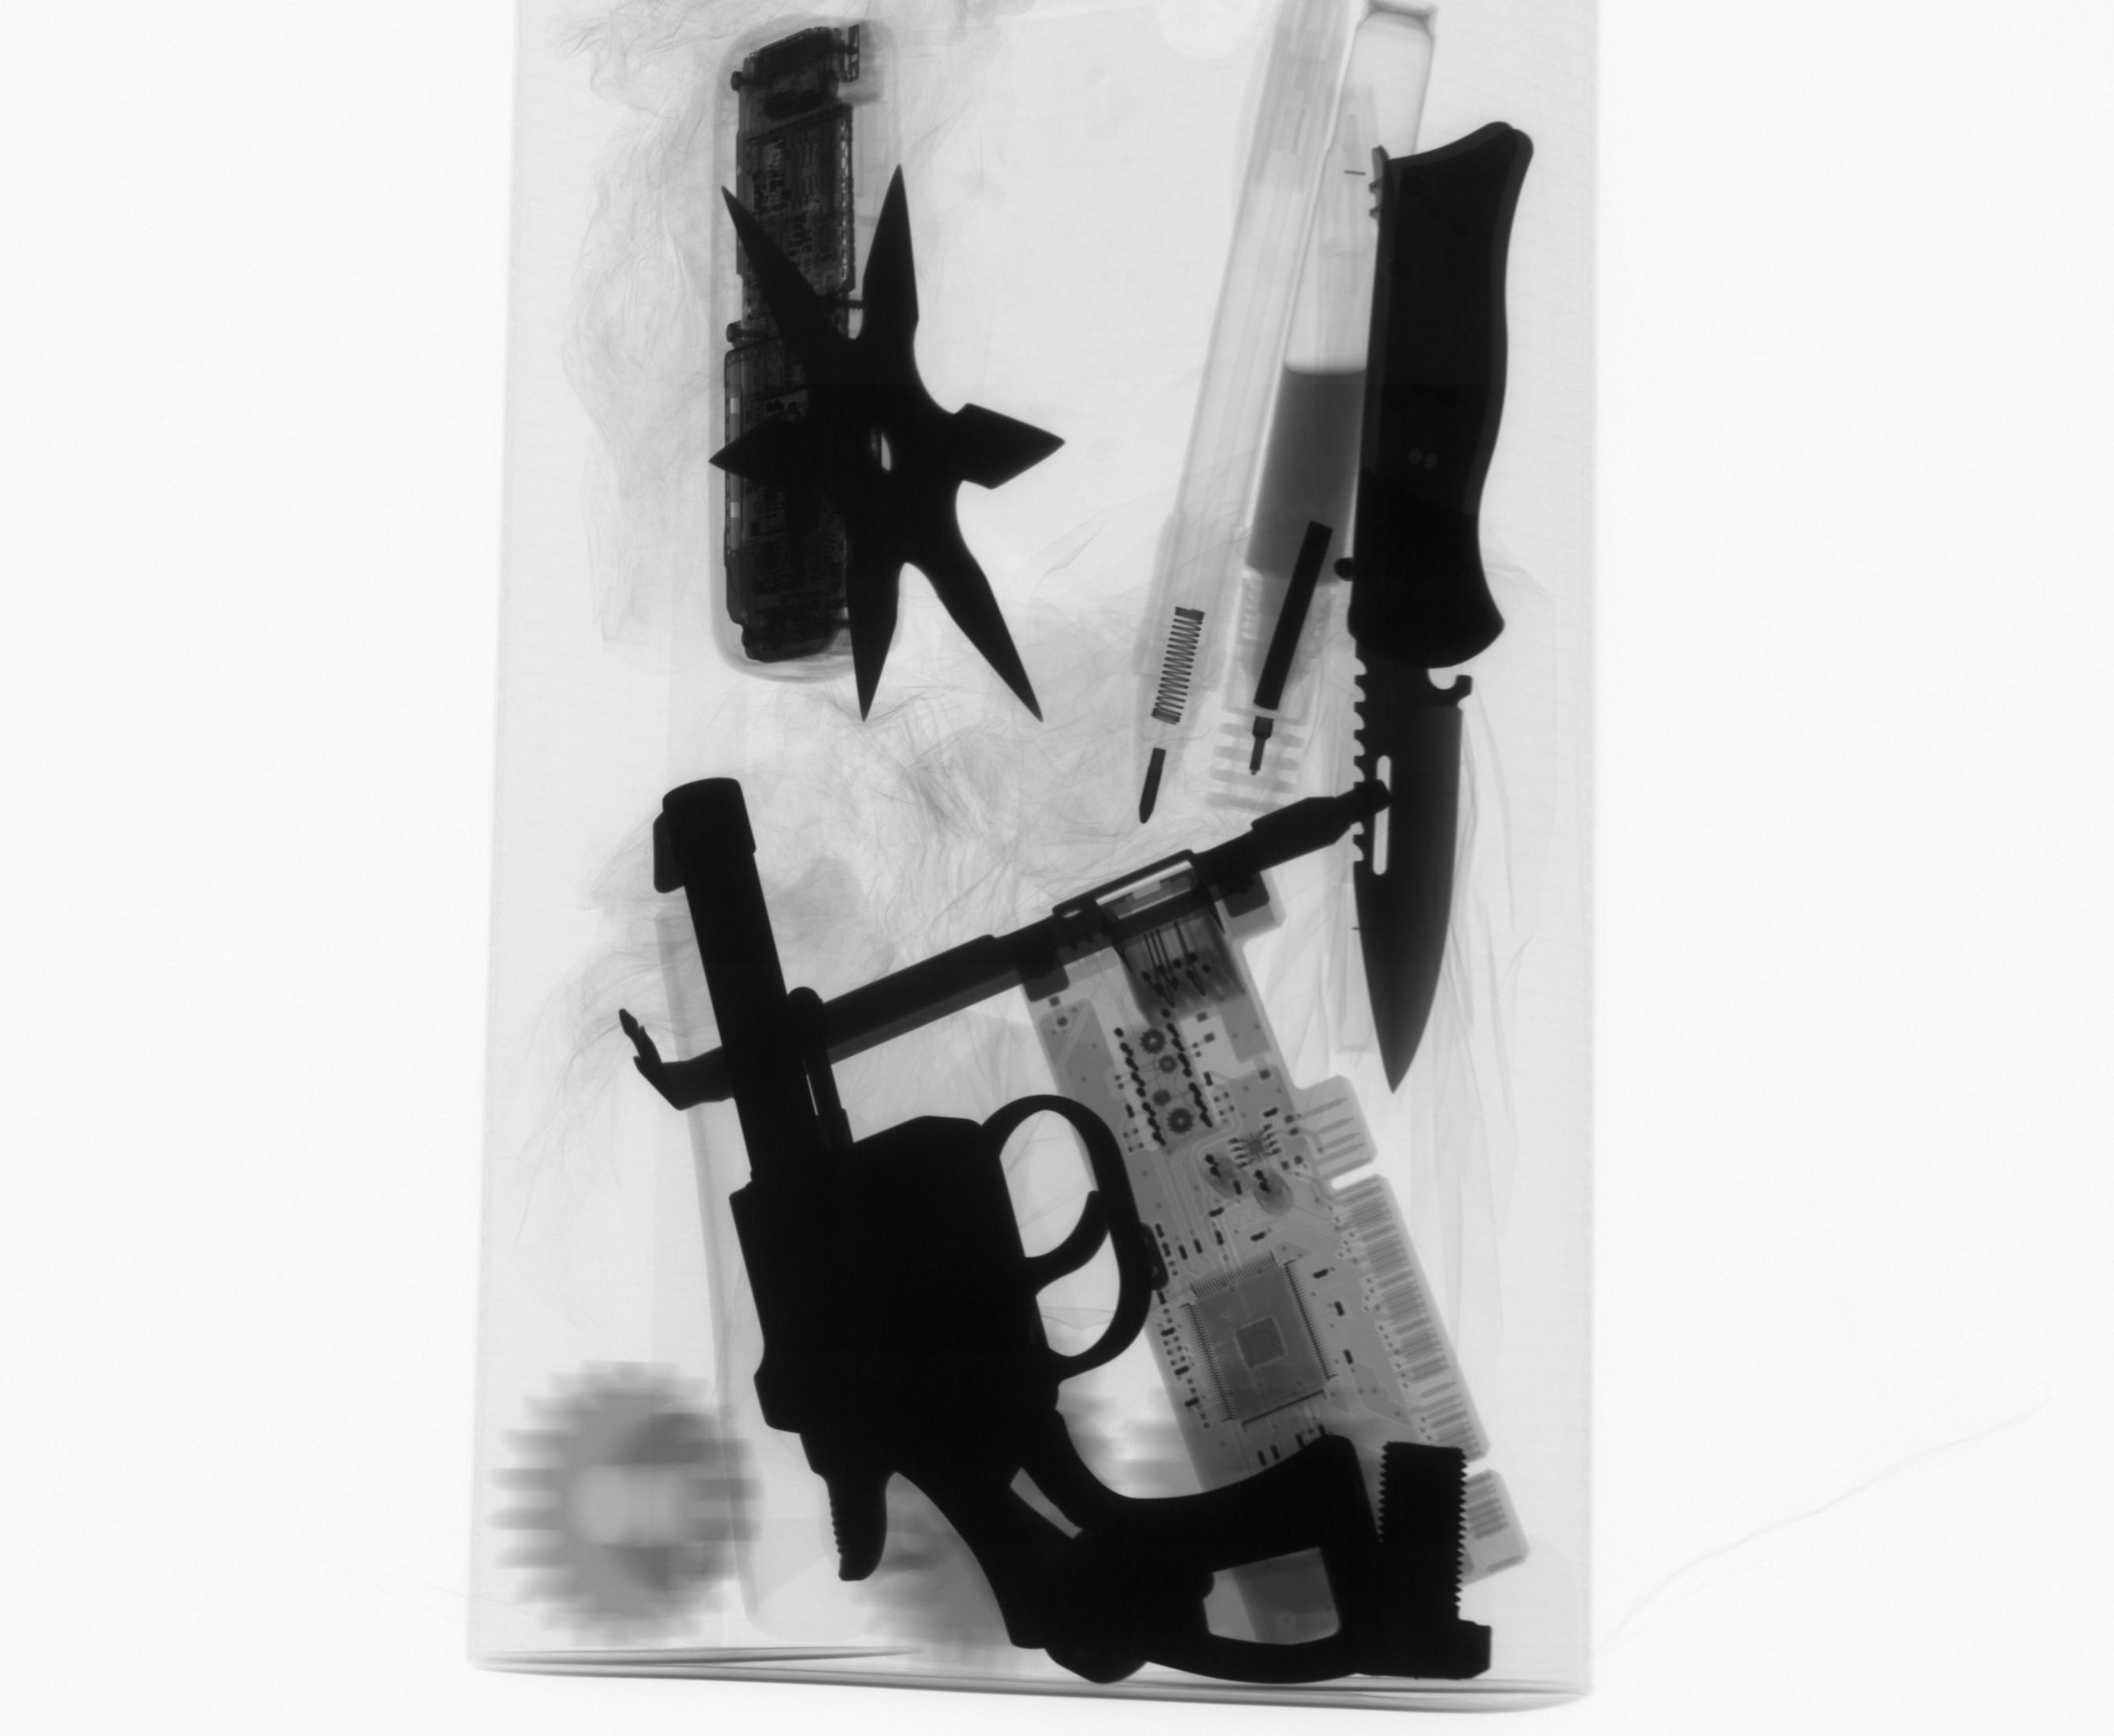Handgun: (643, 770, 1410, 1695)
Knife: (1320, 113, 1544, 1102)
Shuriken: (705, 160, 1073, 737)
